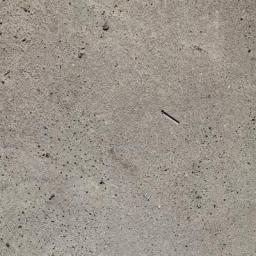FOD: (161, 109, 184, 128)
